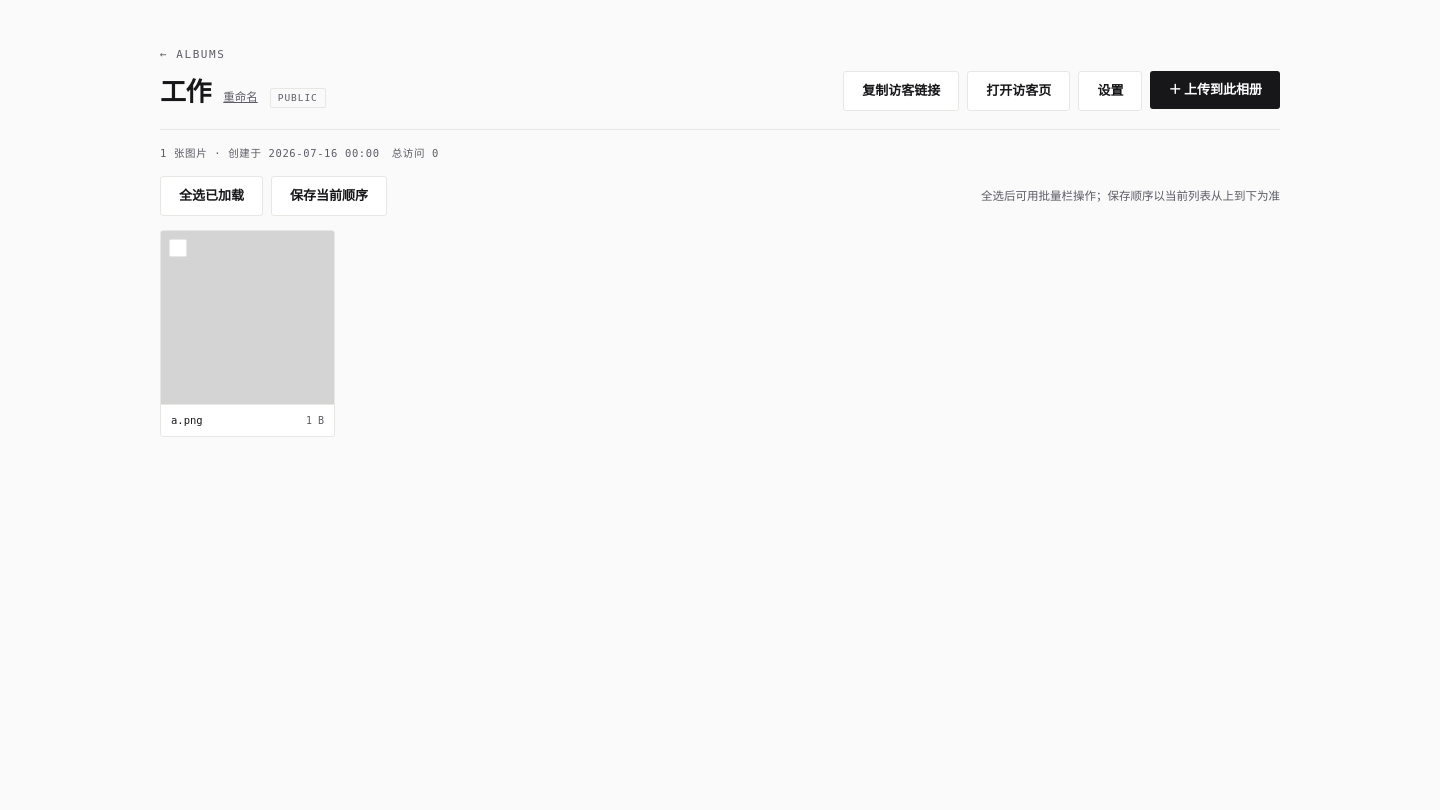
Scenario: 设置弹窗：打开后可见分享与访问，默认视图在弹窗内
The width and height of the screenshot is (1440, 810).
Expected: the heading "工作" is shown, left=160, top=72, right=211, bottom=110
Click the button with test id "album-settings-btn" at (1110,91), box left=1078, top=71, right=1142, bottom=110
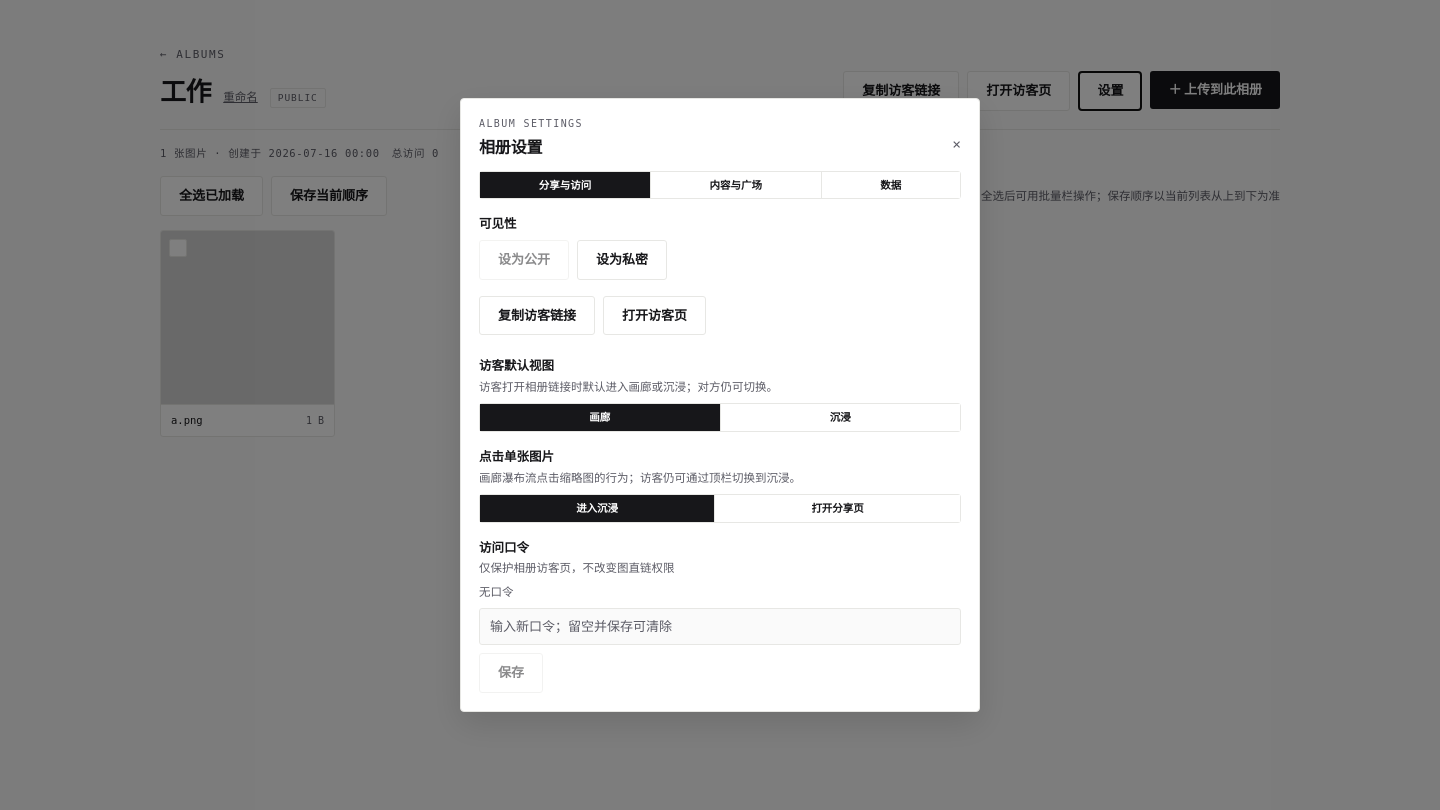
Expected: the element with test id "album-settings-share" is shown, left=479, top=215, right=961, bottom=693
Expected: the element with test id "album-default-view" is shown, left=479, top=357, right=961, bottom=432
Click the button "内容与广场" at (735,185), box left=650, top=172, right=821, bottom=198
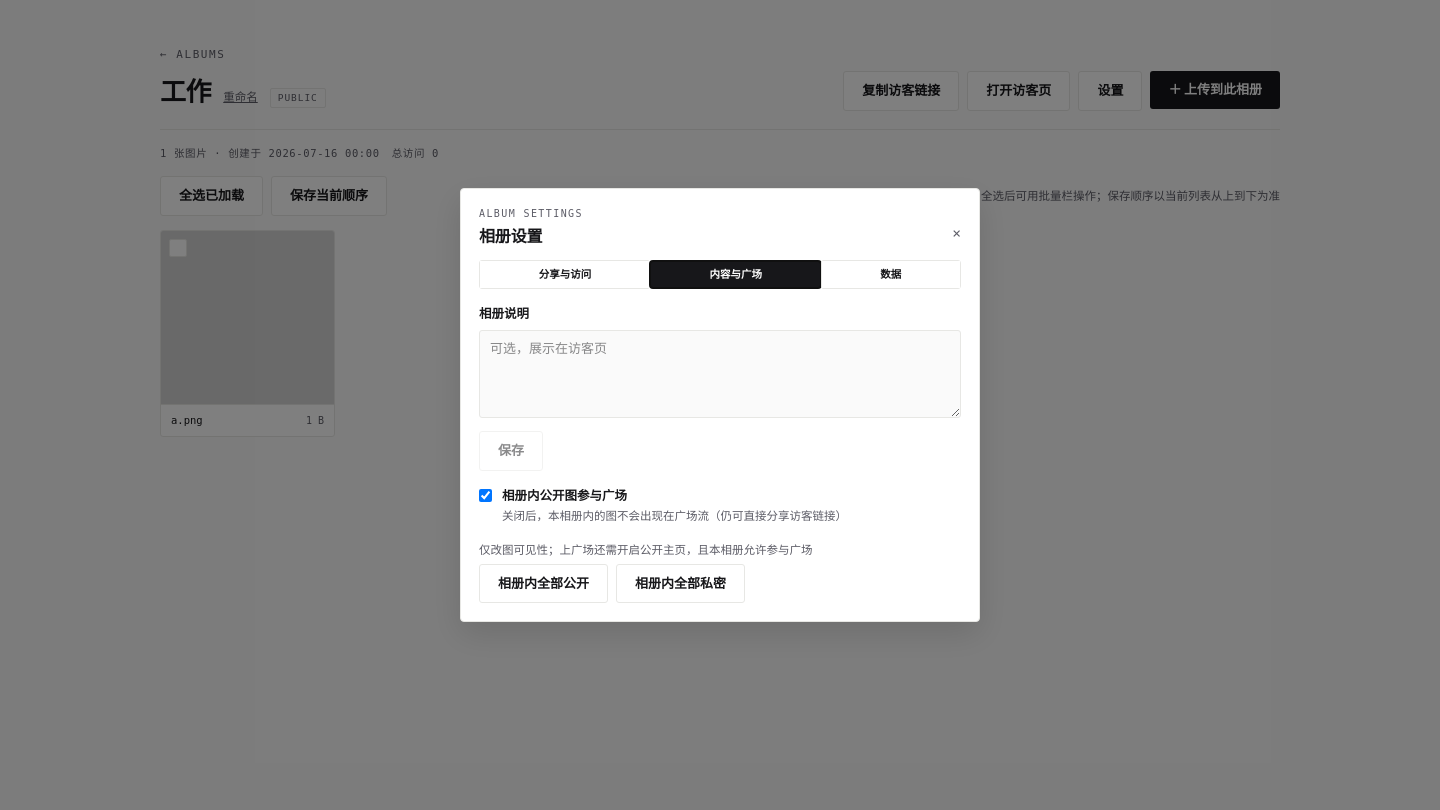
Expected: the element with test id "album-settings-content" is shown, left=479, top=305, right=961, bottom=603
